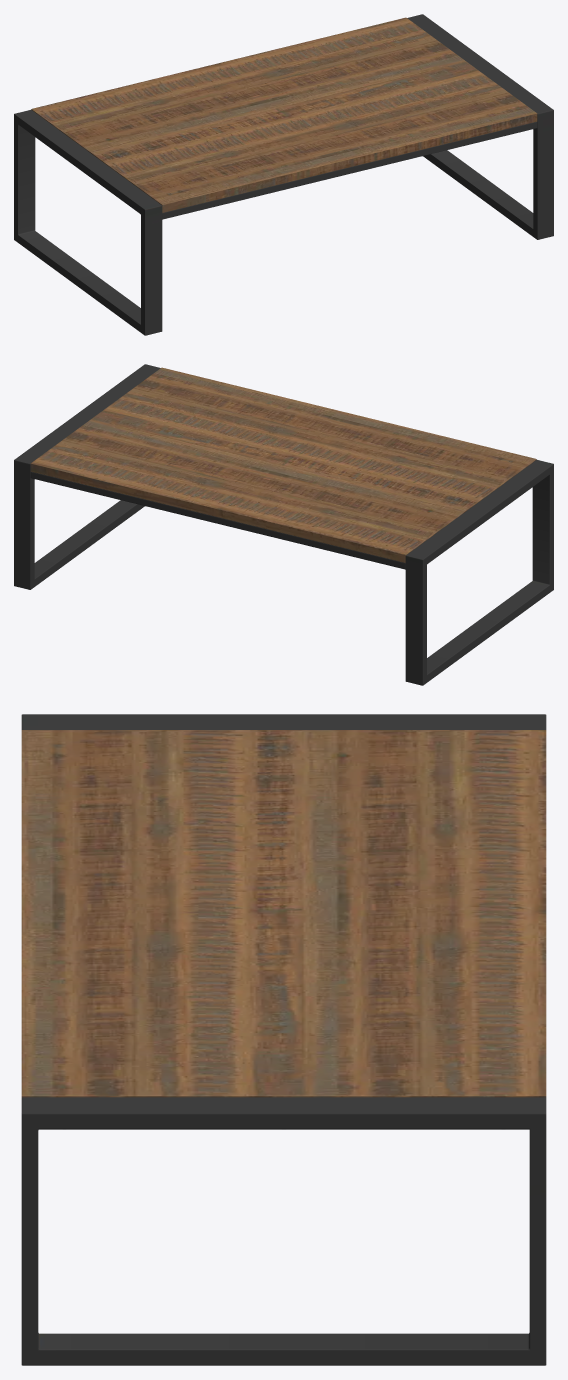
File: abo-B07QF9Y71V.glb
3 renders of one model, top to bottom at view 1: azimuth 30°, elevation 25°; view 2: azimuth 150°, elevation 25°; view 3: azimuth 270°, elevation 25°, orthographic. The views are drawn at different scales.
Bounding box in the file's own units: 1.35 × 0.4 × 0.75.
Materials: 1 (1 with a texture image).
